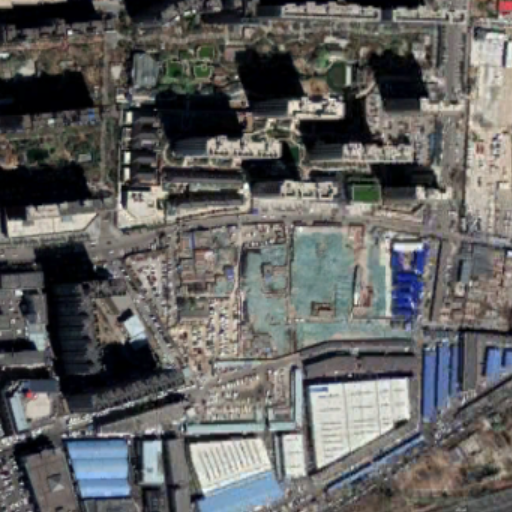cw: (241, 220, 414, 352)
